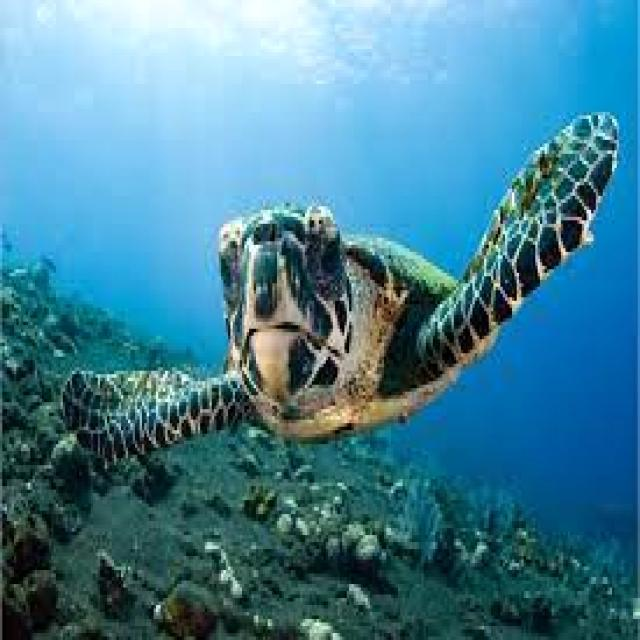Sea turtle: (62, 113, 640, 464)
